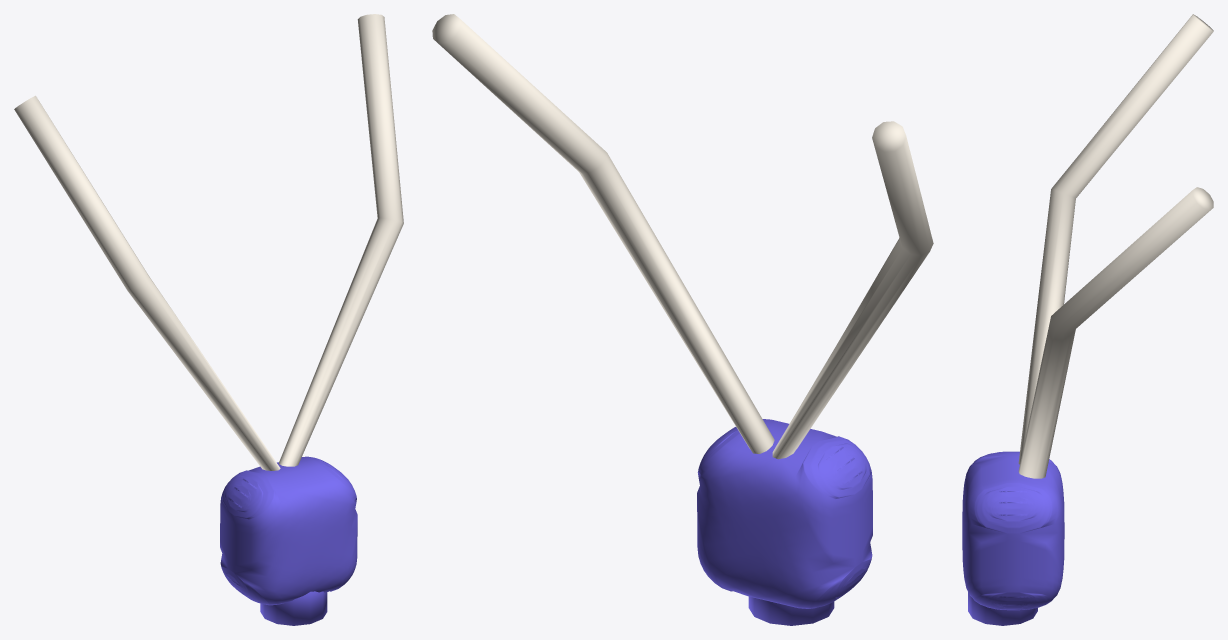
Rendered from coach_whistle.glb.
3 renders of one model, left to right at view 1: azimuth 30°, elevation 25°; view 2: azimuth 150°, elevation 25°; view 3: azimuth 270°, elevation 25°, orthographic. The views are drawn at different scales.
Parts seen in each view (by area): view 1: coach_whistle__lanyard, coach_whistle__whistle_body, coach_whistle__mouthpiece; view 2: coach_whistle__lanyard, coach_whistle__whistle_body, coach_whistle__mouthpiece; view 3: coach_whistle__lanyard, coach_whistle__whistle_body, coach_whistle__mouthpiece.
Part boxes in pixels (x1,y1,x2,y2): coach_whistle__lanyard: (14, 14, 403, 470); coach_whistle__whistle_body: (220, 456, 357, 605); coach_whistle__mouthpiece: (260, 591, 327, 625); coach_whistle__lanyard: (432, 14, 933, 459); coach_whistle__whistle_body: (697, 419, 872, 608); coach_whistle__mouthpiece: (748, 596, 834, 625); coach_whistle__lanyard: (1018, 14, 1213, 478); coach_whistle__whistle_body: (962, 451, 1064, 610); coach_whistle__mouthpiece: (968, 592, 1037, 625).
Size of the model in its own units: 0.3797 by 0.482 by 0.2158.
